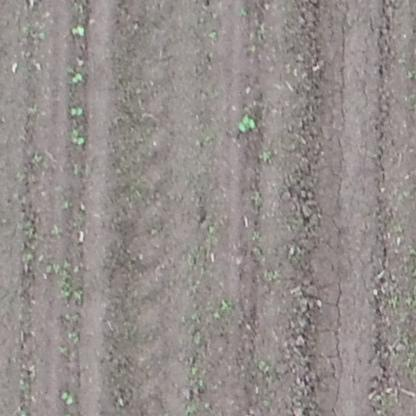vc: (235, 110, 260, 136), (70, 128, 86, 148), (58, 390, 78, 406), (71, 22, 86, 37), (68, 104, 86, 116), (71, 71, 83, 85)
